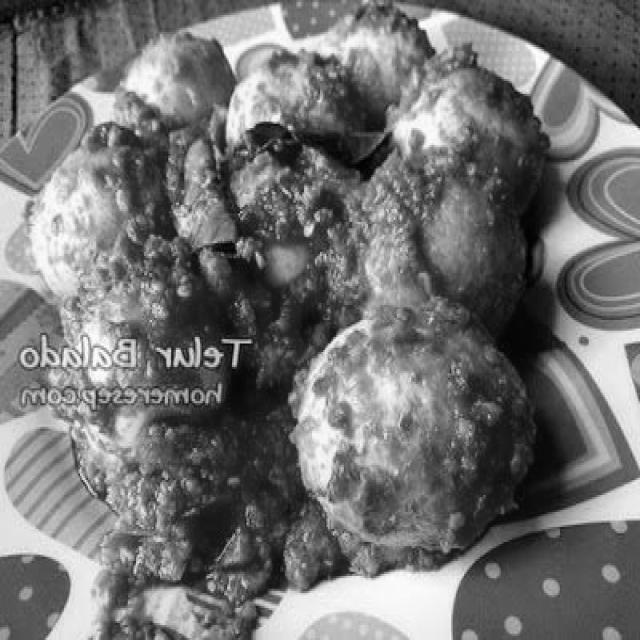telur_balado: (306, 328, 512, 543), (340, 158, 520, 324), (33, 141, 159, 299), (373, 69, 543, 169), (81, 298, 218, 416), (219, 56, 361, 152), (127, 29, 236, 148)
